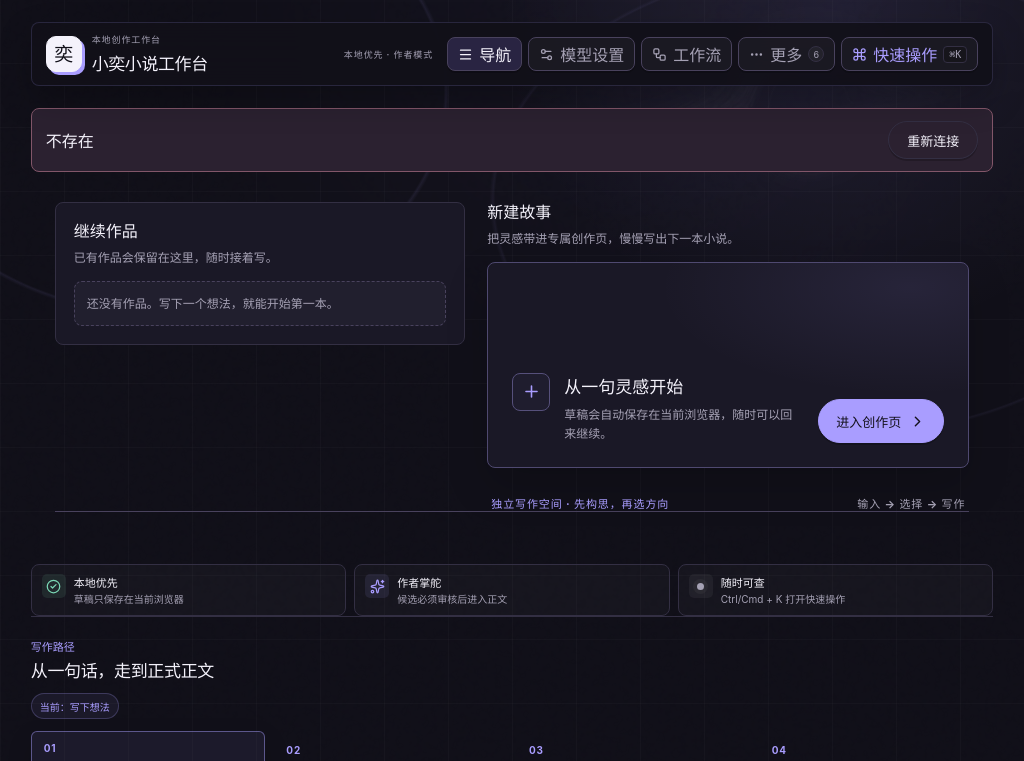
it: auto-novel client › opens a deferred author tool from the home navigation
The image size is (1024, 761).
Expected: the button "进入创作页" is shown, [818,399,944,443]
Expected: the field labelled "故事想法" is not shown
What coordinates should you click on to do the following:
click the button with aria-label "打开工作区导航"
I would click on:
 (485, 54)
Its box is [447,37,522,71].
(page scrolled)
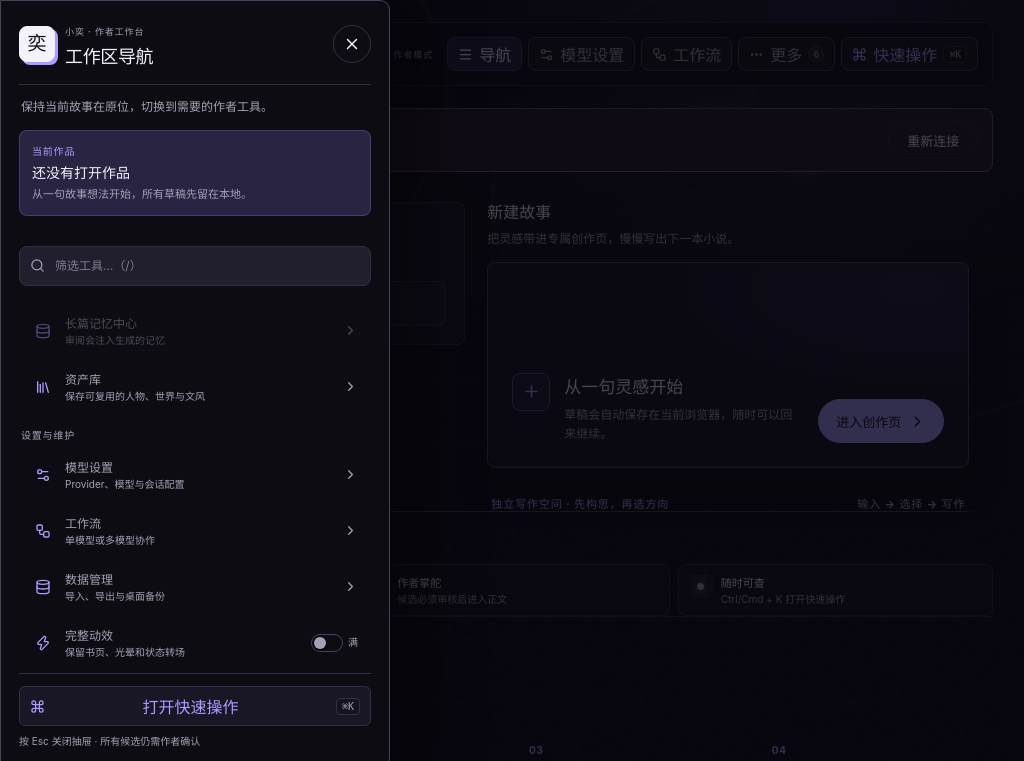
What coordinates should you click on to do the following:
click the button "模型设置 Provider、模型与会话配置"
I would click on:
 (89, 468)
Its box is [19,449,368,501].
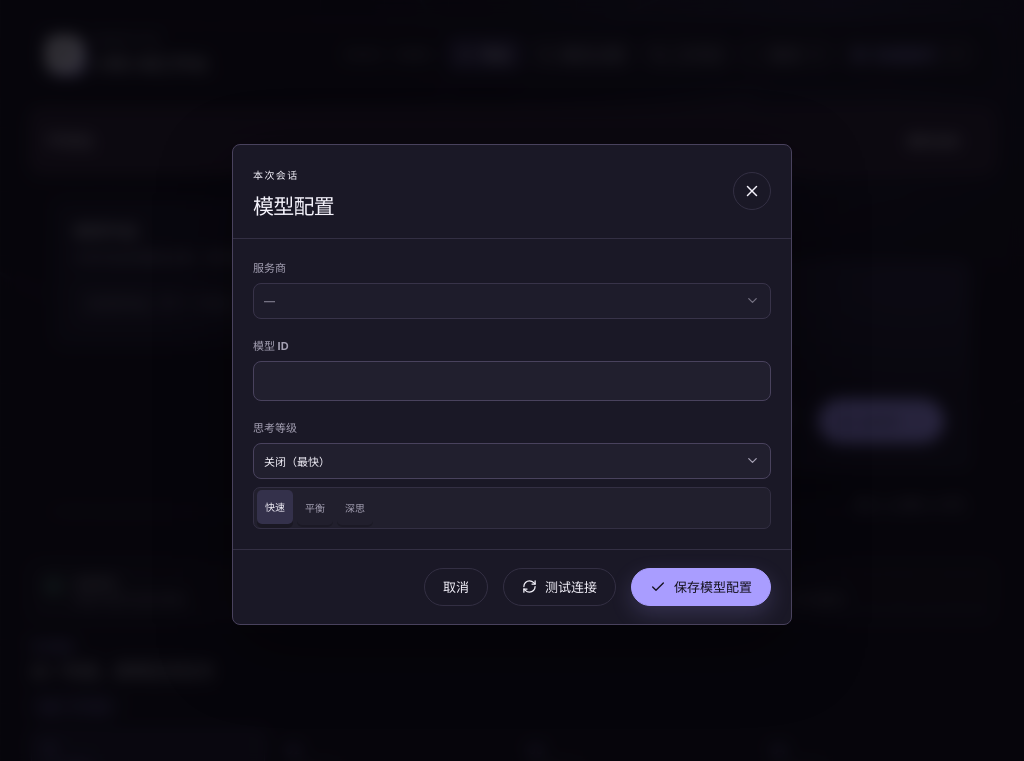
Expected: the heading "模型配置" is shown, [253,190,334,220]
